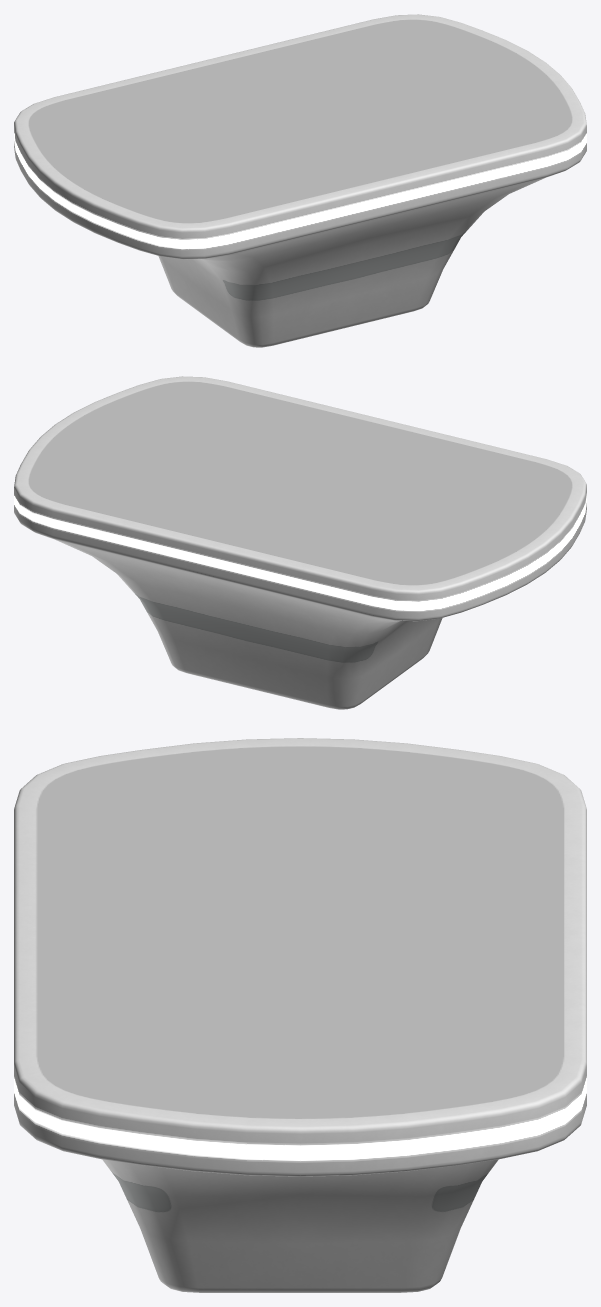
The model's file is CoffeeTable04_2.FBX.
3 renders of one model, top to bottom at view 1: azimuth 30°, elevation 25°; view 2: azimuth 150°, elevation 25°; view 3: azimuth 270°, elevation 25°, orthographic. The views are drawn at different scales.
Parts seen in each view (by area): view 1: CoffeeTable04_2; view 2: CoffeeTable04_2; view 3: CoffeeTable04_2.
Boxes of the visible parts, left/top/right/bottom form: CoffeeTable04_2: left=14, top=14, right=586, bottom=347; CoffeeTable04_2: left=14, top=376, right=586, bottom=709; CoffeeTable04_2: left=14, top=738, right=586, bottom=1292.
Size of what is drawn, in the model's own units: 1.6 by 0.5503 by 0.9851.
